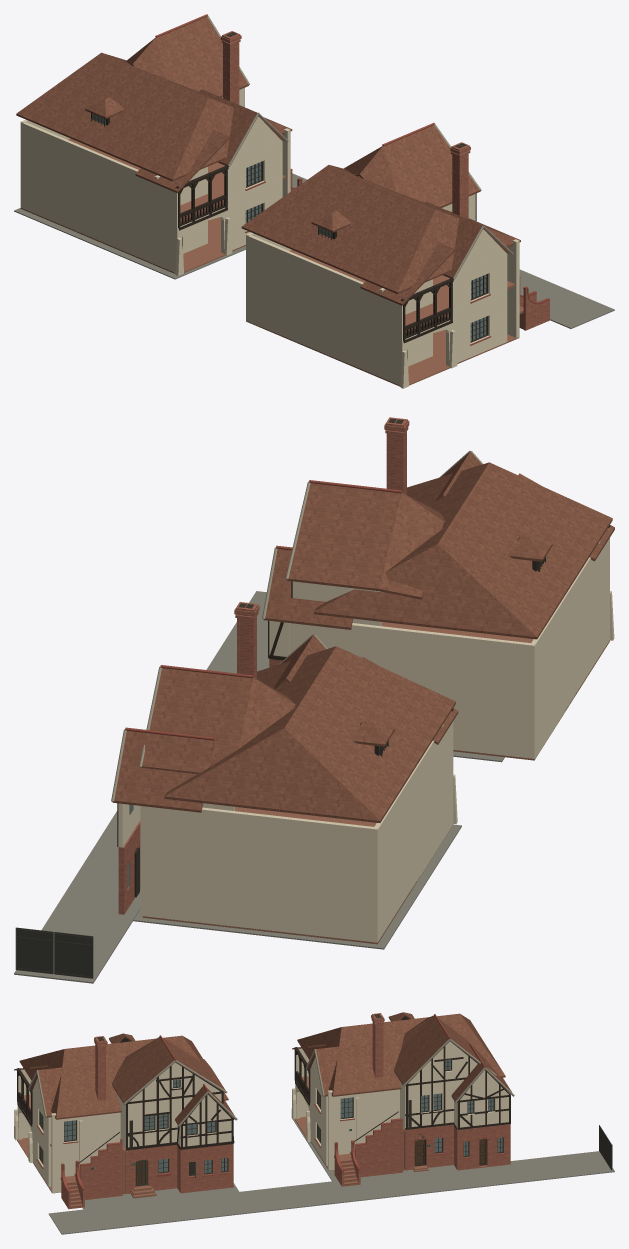
The model's file is full-source.glb.
3 renders of one model, top to bottom at view 1: azimuth 30°, elevation 25°; view 2: azimuth 150°, elevation 25°; view 3: azimuth 270°, elevation 25°, orthographic. The views are drawn at different scales.
Parts seen in each view (by area): view 1: 五原路289弄花园住宅; view 2: 五原路289弄花园住宅; view 3: 五原路289弄花园住宅.
Boxes of the visible parts, x1,y1,x2,y2 form: 五原路289弄花园住宅: (14, 14, 614, 388); 五原路289弄花园住宅: (14, 417, 614, 983); 五原路289弄花园住宅: (14, 1012, 614, 1234).
Size of the model in its own units: 24.42 by 12 by 45.06.
Materials: 16 (3 with a texture image).
